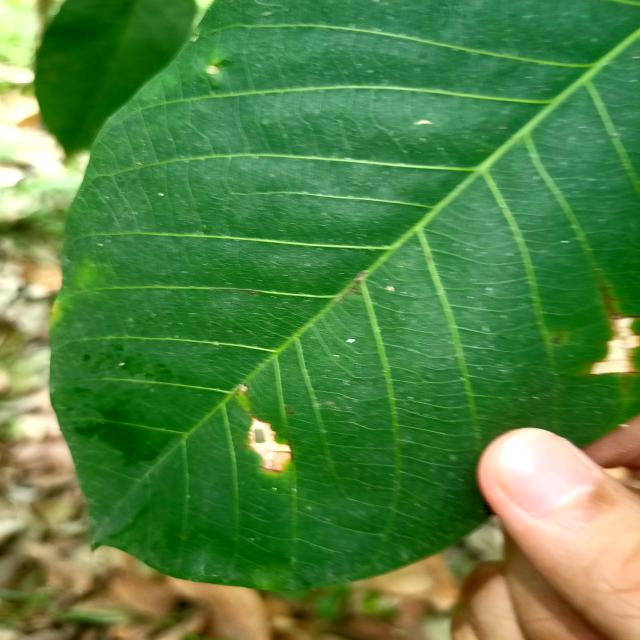Leaf-Blight: (593, 317, 639, 375), (246, 416, 294, 471)
